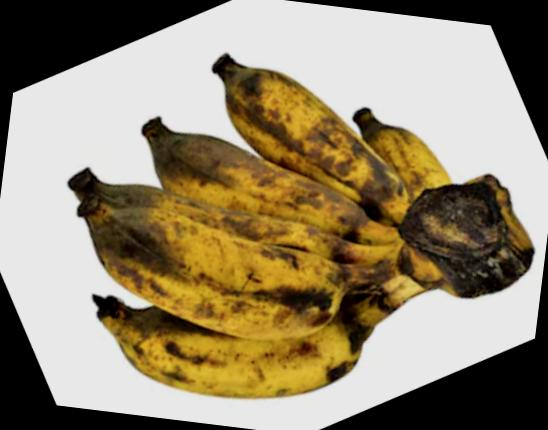Banana Overripe: (1, 0, 547, 430)
